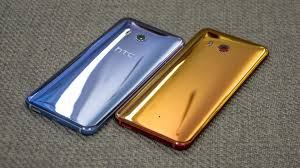htc: (23, 14, 185, 136)
